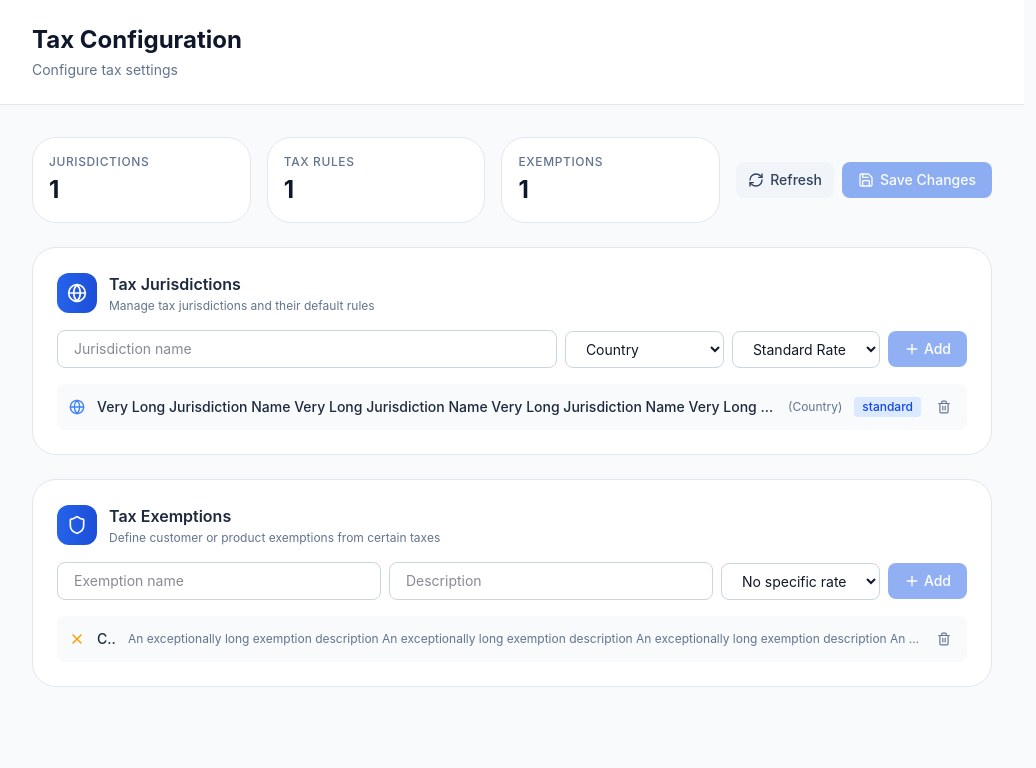
Test: BUG-11.13 Tax Configuration › after a successful save the snapshot updates and Save is disabled again
Expected: the heading "Tax Jurisdictions" is shown, [109,274,241,294]
Step 1. Click the button named "Remove exemption" → (944,639), box [933,628,955,650]
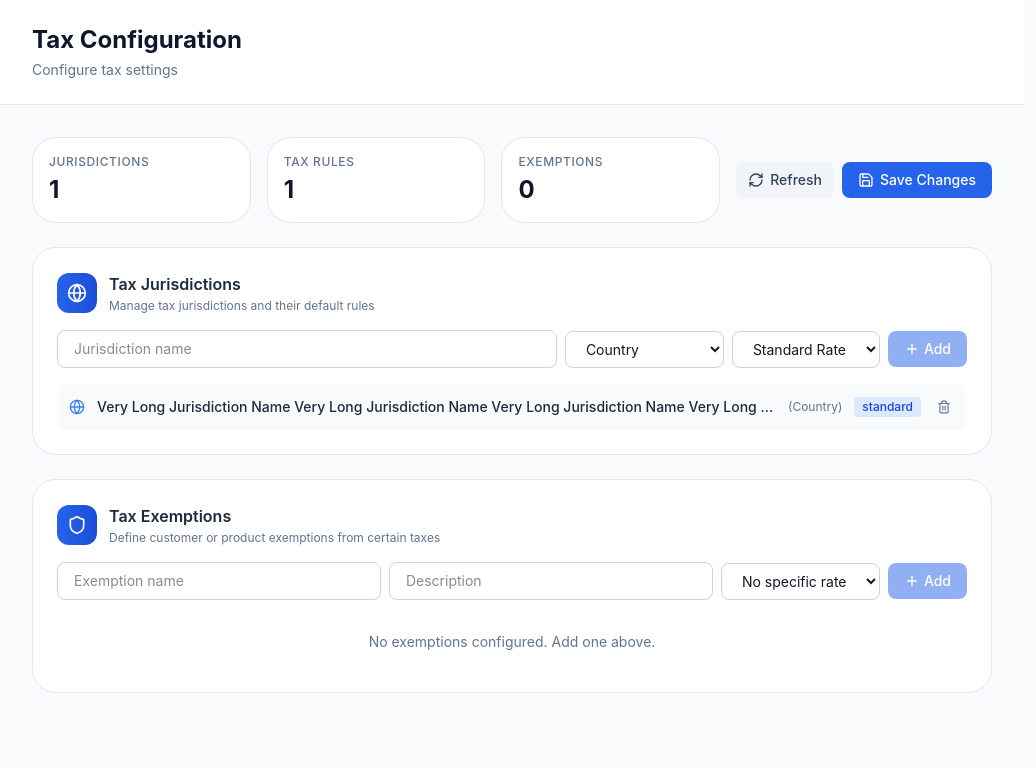
Now the button "Save Changes" is enabled
Step 2. Click the button "Save Changes" → (917,180), box [842,162,992,198]
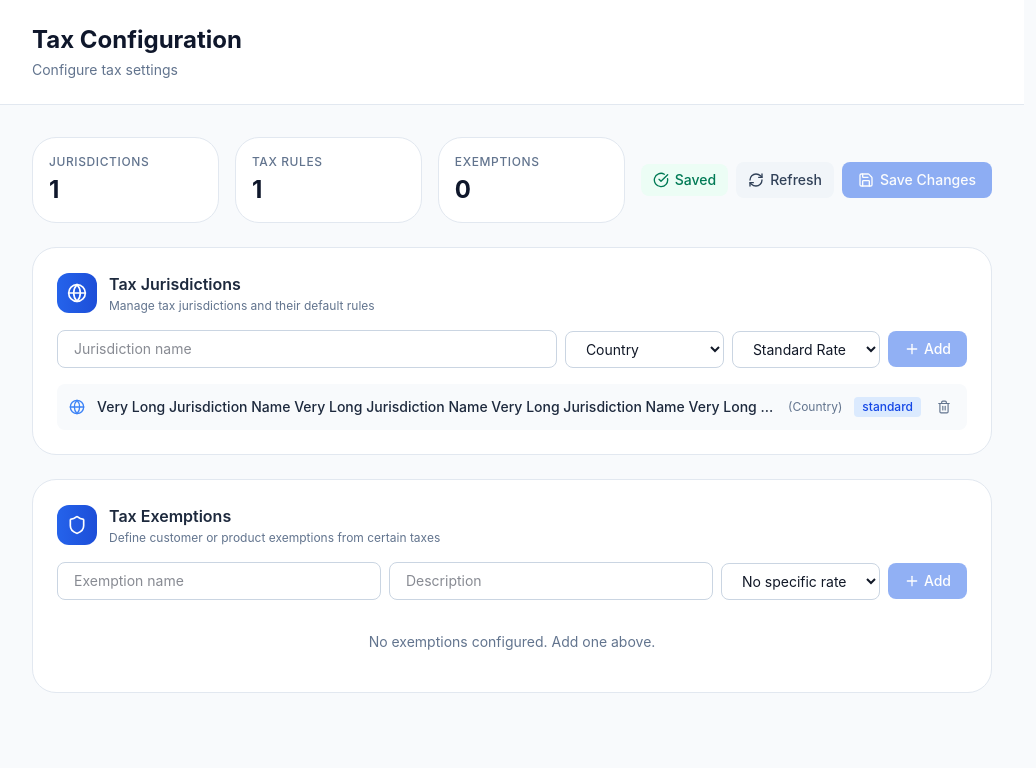
Now the button "Save Changes" is disabled, box [842,162,992,198]
